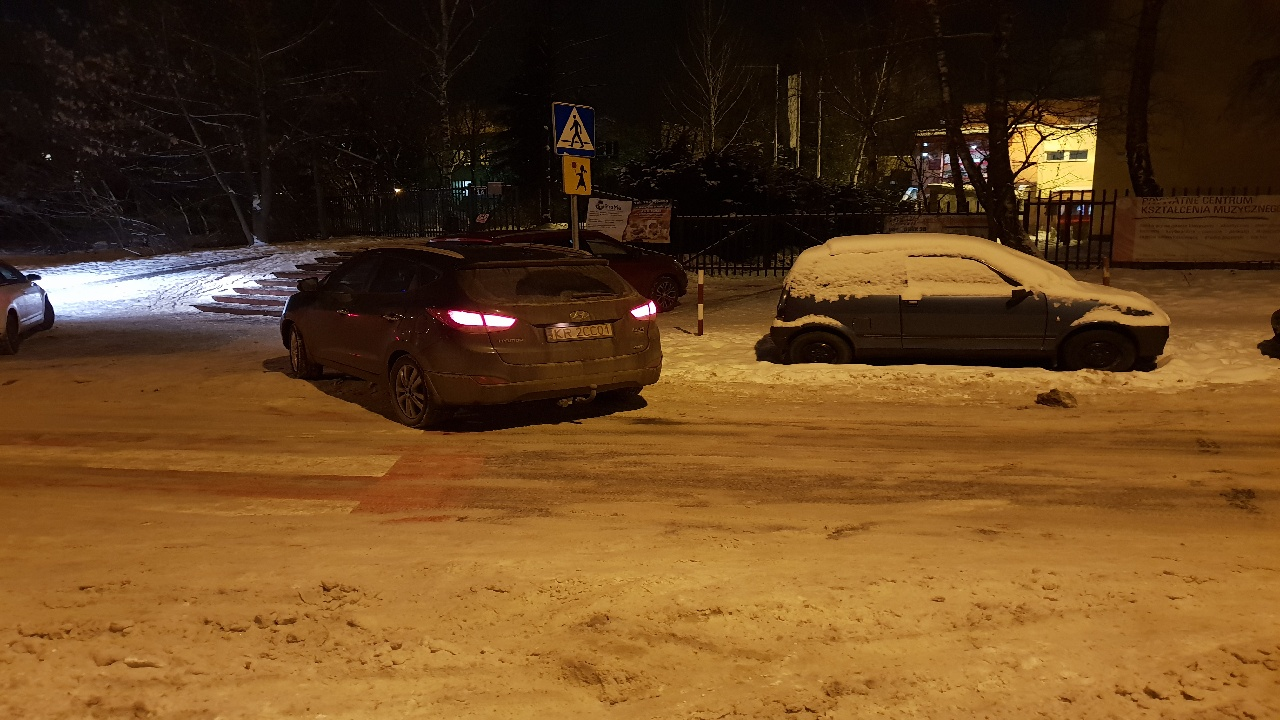D6: (549, 101, 601, 155)
